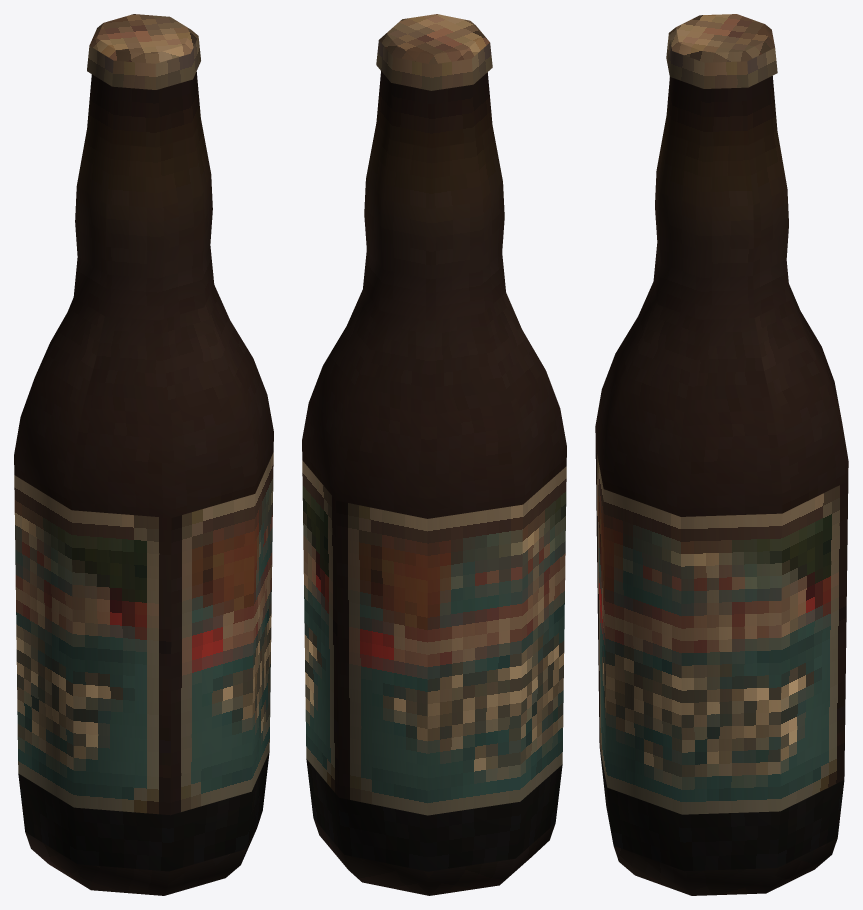
File: glass_bottle_2.fbx
The picture shows the model from 3 angles, left to right: view 1: azimuth 30°, elevation 25°; view 2: azimuth 150°, elevation 25°; view 3: azimuth 270°, elevation 25°; orthographic projection.
Parts seen in each view (by area): view 1: glass_bottle_2; view 2: glass_bottle_2; view 3: glass_bottle_2.
Part boxes in pixels (x1,y1,x2,y2): glass_bottle_2: (14,14,273,895); glass_bottle_2: (302,14,566,895); glass_bottle_2: (595,14,848,895).
Size of the model in its own units: 0.1096 by 0.1096 by 0.3931.
